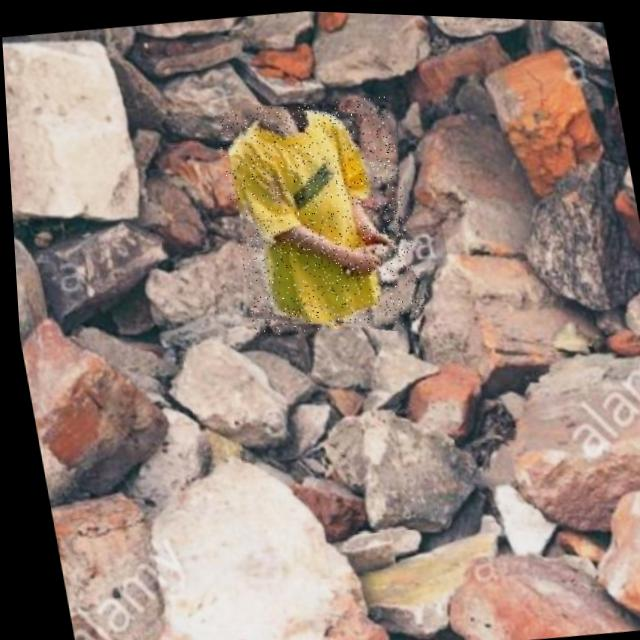Person in Rubble: (212, 88, 423, 340)
